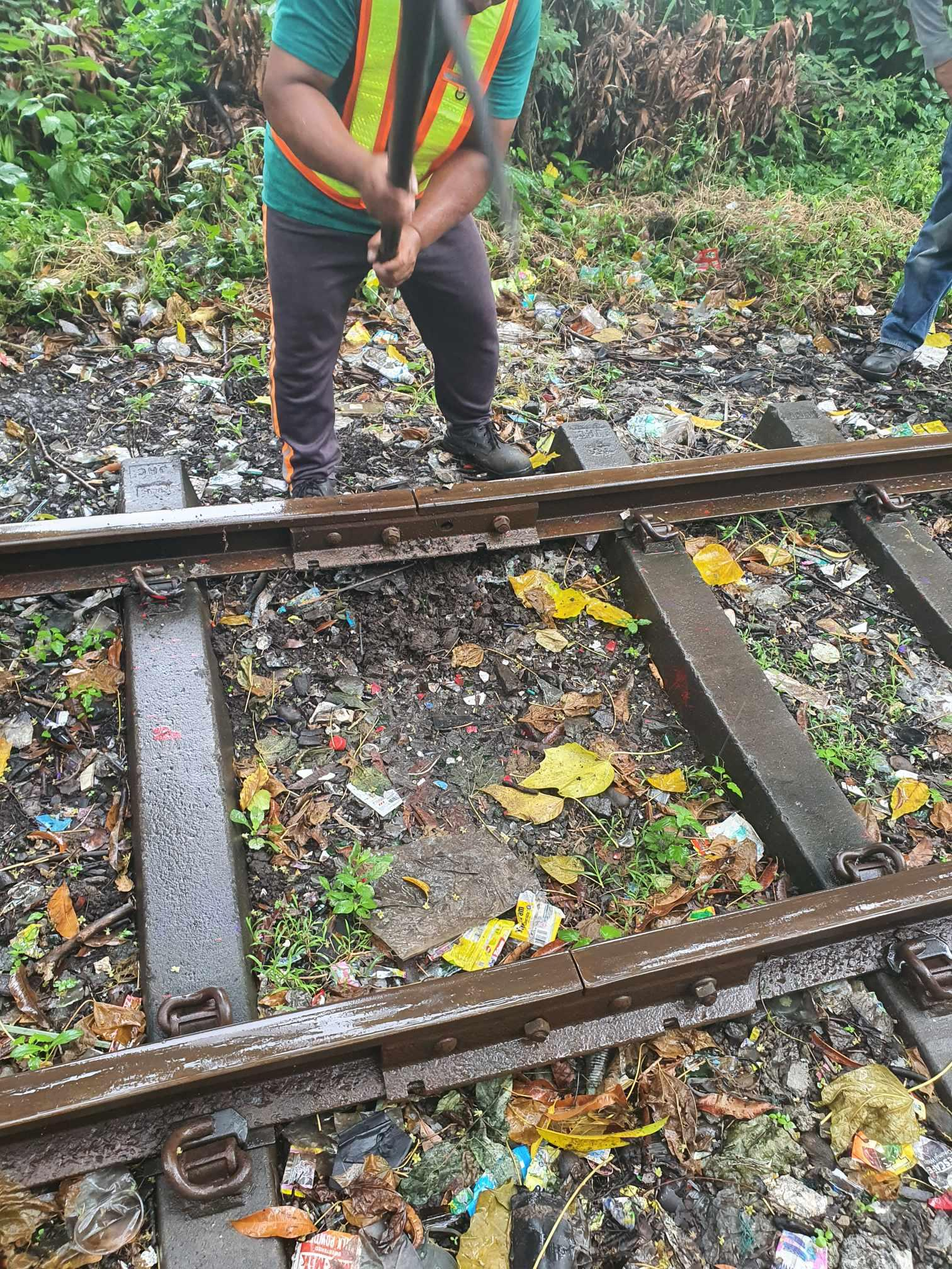railway-gap: (516, 900, 640, 1034), (364, 453, 462, 548)
